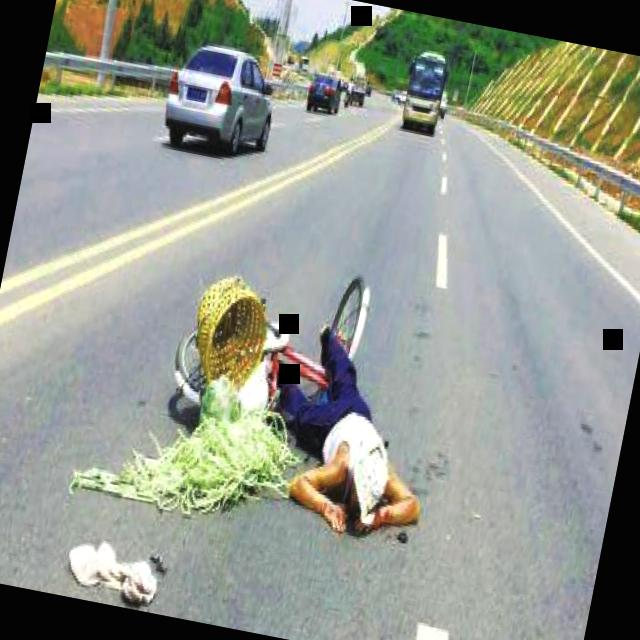Fall-Detected: (245, 296, 461, 564)
